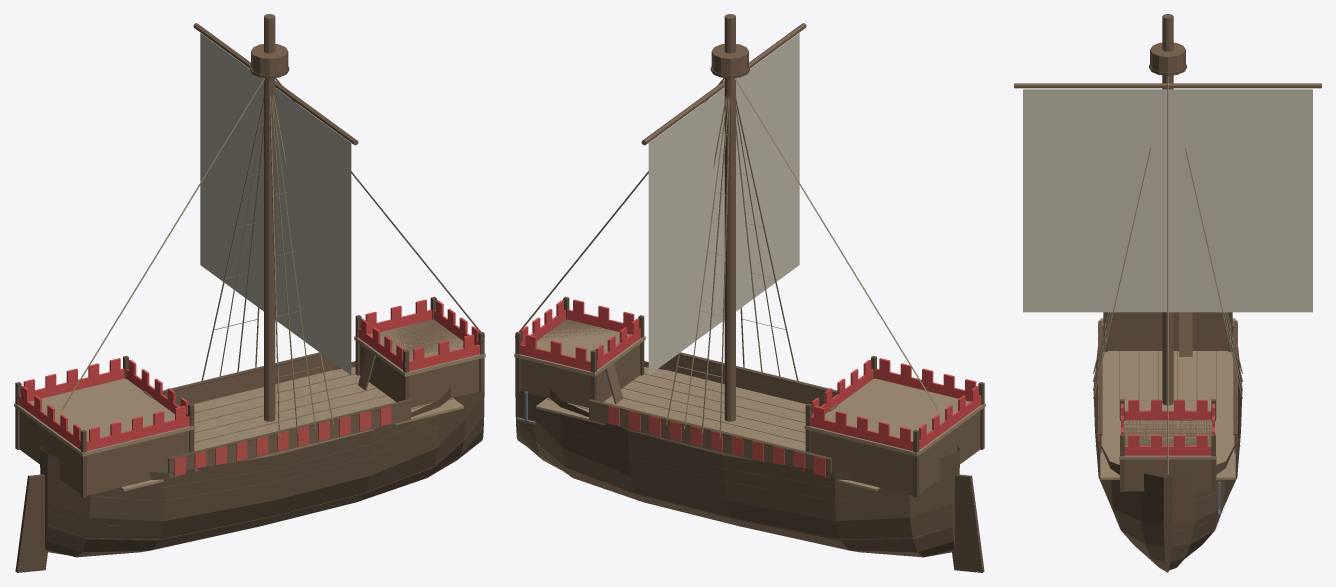
Rendered from cog.glb.
The picture shows the model from 3 angles, left to right: view 1: azimuth 30°, elevation 25°; view 2: azimuth 150°, elevation 25°; view 3: azimuth 270°, elevation 25°; orthographic projection. The views are drawn at different scales.
Visible parts, largest first — view 1: cog; view 2: cog; view 3: cog.
Boxes of the visible parts, x1=… form: cog: x1=14, y1=14, x2=485, y2=572; cog: x1=514, y1=14, x2=985, y2=572; cog: x1=1014, y1=14, x2=1321, y2=572.
Bounding box in the file's own units: 26.17 × 26.59 × 15.5.
